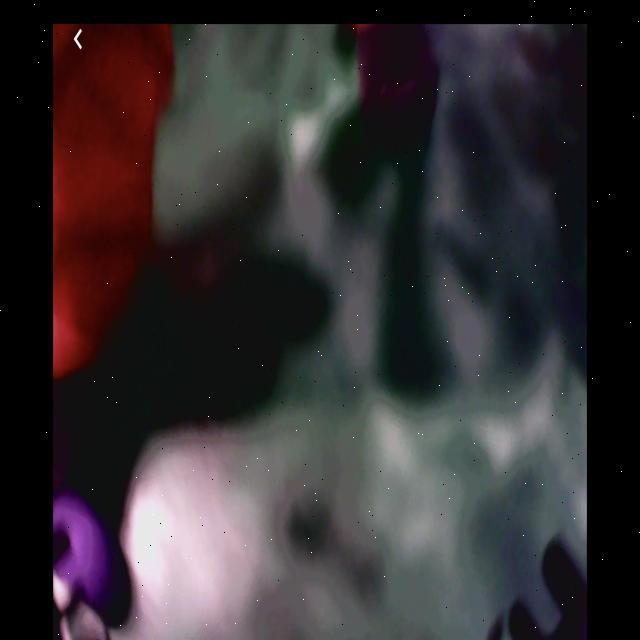ball: (56, 497, 106, 612)
